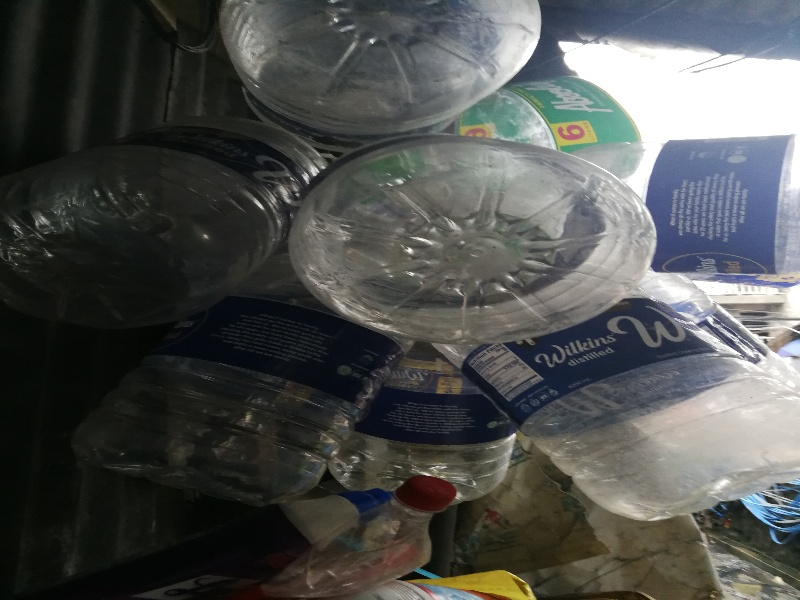PET #1: (426, 256, 800, 520), (73, 275, 409, 503), (295, 131, 657, 334), (1, 104, 315, 324), (214, 1, 541, 138), (569, 134, 800, 264), (448, 68, 656, 192)
